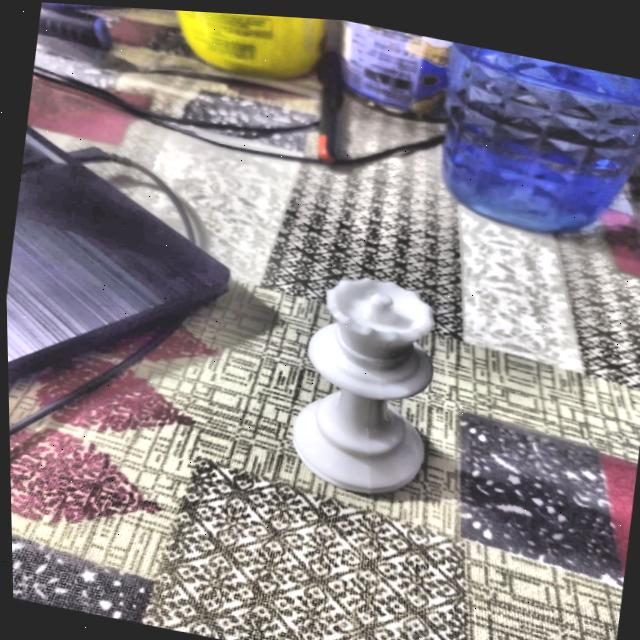WhiteQueen: (283, 263, 451, 508)
